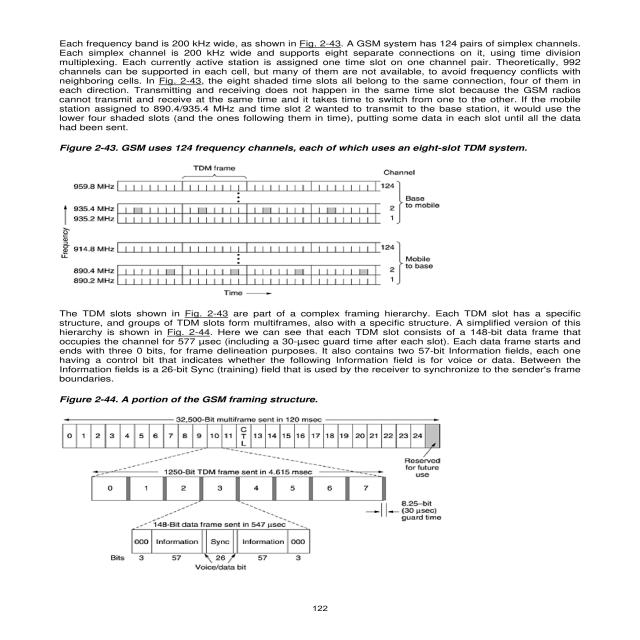diagram: (26, 386, 520, 578), (33, 132, 554, 302)
